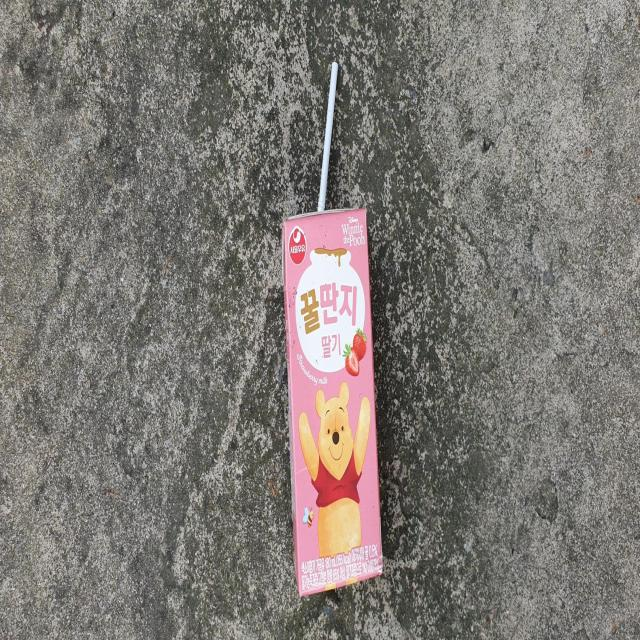paperpack: (283, 206, 383, 597)
